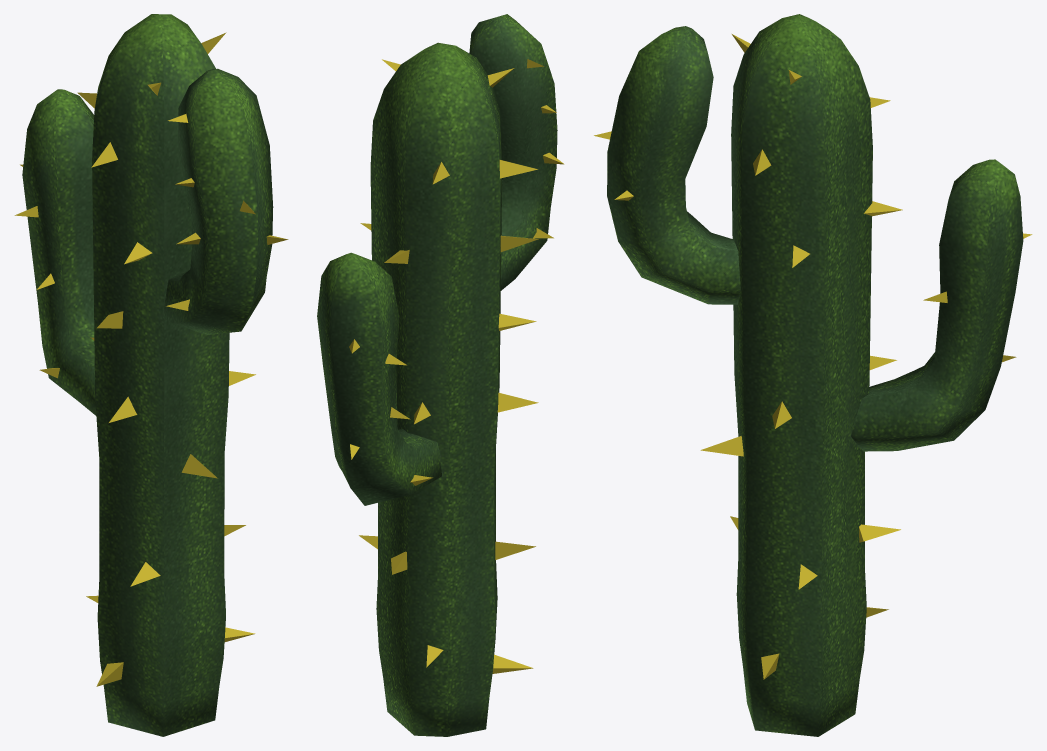
File: cactus 1.fbx
3 views of the same model, side by side, from view 1: azimuth 30°, elevation 25°; view 2: azimuth 150°, elevation 25°; view 3: azimuth 270°, elevation 25° (orthographic). The views are drawn at different scales.
Visible parts, largest first — view 1: CucumberCactus, Spikes2; view 2: CucumberCactus, Spikes2; view 3: CucumberCactus, Spikes2.
Part boxes in pixels (x1=…): CucumberCactus: x1=22, y1=14, x2=273, y2=736; Spikes2: x1=14, y1=32, x2=288, y2=686; CucumberCactus: x1=317, y1=14, x2=557, y2=736; Spikes2: x1=349, y1=59, x2=564, y2=673; CucumberCactus: x1=607, y1=14, x2=1023, y2=736; Spikes2: x1=594, y1=34, x2=1032, y2=679.
Size of the model in its own units: 1.71 by 6.58 by 3.75.
Materials: 1 (1 with a texture image).
